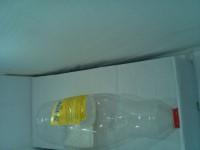bottle: (102, 0, 114, 38)
